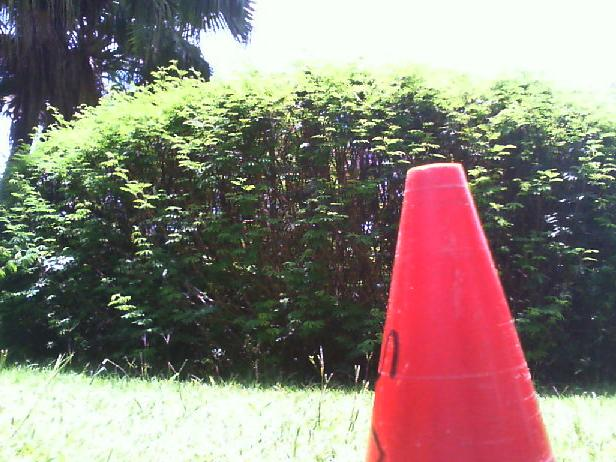0 cone: (364, 162, 558, 462)
